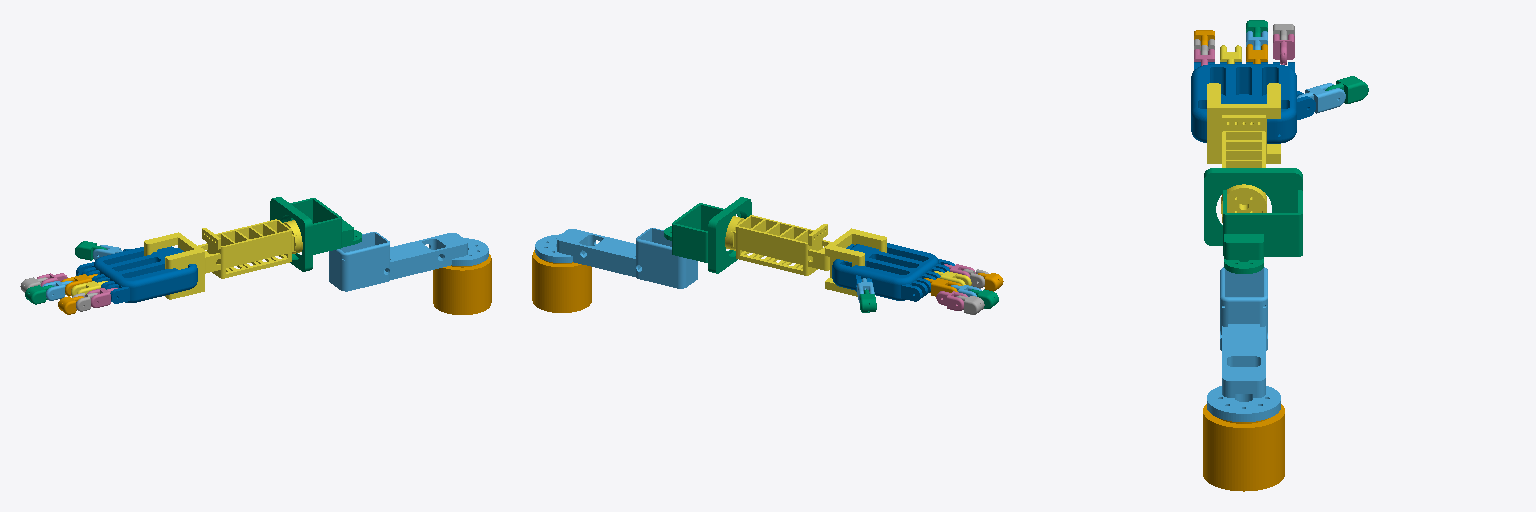
The robot description file, URDF, robot "cocomi_arm_v5":
<?xml version="1.0"?>
<!-- COCOMI / ここちゃん arm v5 (auto-generated). PLA mass = ~50% printed estimate; servos/actuator added as boxes.
     STS3215 55 g x3, 6806 bearing 18 g, wrist idler pin ~5 g,
     5 tendon micro servos 11 g each (PLACEHOLDER) in forearm_distal, AK45-10 placeholder 260 g. Units m/kg/rad.
     v5: wrist U-yoke — pivot on forearm centerline, axis Y (flexion/extension toward palm/back). Palm faces -Z (medial/inward at roll=0).
     Each finger has its own actuated joint <name>_curl; distal segments use <mimic>.
     Positive finger curl = toward the palm (axis 0 -1 0). Positive wrist = flexion toward palm (-Z); axis 0 -1 0 matches viewer wr.rotation.y=-J. -->
<robot name="cocomi_arm_v5">
 <link name="shoulder_base">
  <inertial><origin xyz="3.7728e-10 0.00039949 -0.023343"/><mass value="0.27900"/>
   <inertia ixx="1.1966e-04" ixy="-8.6654e-13" ixz="-8.3695e-13" iyy="1.1667e-04" iyz="2.3620e-06" izz="1.3768e-04"/></inertial>
  <visual><origin xyz="0 0 0" rpy="0 0 0"/><geometry><mesh filename="shoulder_cup.stl" scale="0.001 0.001 0.001"/></geometry></visual>
  <visual><origin xyz="0 0 0" rpy="0 0 0"/><geometry><mesh filename="actuator_AK45-10_placeholder.stl" scale="0.001 0.001 0.001"/></geometry></visual>
 </link>
 <link name="upper_arm">
  <inertial><origin xyz="-0.088002 -5.6798e-12 0.019498"/><mass value="0.09141"/>
   <inertia ixx="1.7332e-05" ixy="3.6248e-14" ixz="1.6594e-05" iyy="1.4181e-04" iyz="5.4687e-15" izz="1.3773e-04"/></inertial>
  <visual><origin xyz="0 0 0" rpy="0 0 0"/><geometry><mesh filename="upper_arm.stl" scale="0.001 0.001 0.001"/></geometry></visual>
  <collision><geometry><mesh filename="upper_arm.stl" scale="0.001 0.001 0.001"/></geometry></collision>
 </link>
 <link name="forearm">
  <inertial><origin xyz="-0.038925 0.0091292 0.014781"/><mass value="0.09619"/>
   <inertia ixx="2.6797e-05" ixy="-2.4713e-06" ixz="1.4432e-06" iyy="2.9391e-05" iyz="-1.9267e-07" izz="4.2018e-05"/></inertial>
  <visual><origin xyz="0 0 0" rpy="0 0 0"/><geometry><mesh filename="forearm_proximal.stl" scale="0.001 0.001 0.001"/></geometry></visual>
  <collision><geometry><mesh filename="forearm_proximal.stl" scale="0.001 0.001 0.001"/></geometry></collision>
 </link>
 <link name="forearm_distal">
  <inertial><origin xyz="-0.080967 0.010276 0.00066995"/><mass value="0.15672"/>
   <inertia ixx="7.1699e-05" ixy="4.7971e-05" ixz="1.3633e-06" iyy="2.5213e-04" iyz="1.0789e-06" izz="2.9733e-04"/></inertial>
  <visual><origin xyz="0 0 0" rpy="0 0 0"/><geometry><mesh filename="forearm_distal.stl" scale="0.001 0.001 0.001"/></geometry></visual>
  <collision><geometry><mesh filename="forearm_distal.stl" scale="0.001 0.001 0.001"/></geometry></collision>
 </link>
 <link name="hand">
  <inertial><origin xyz="-0.031513 0.00040913 -0.0003837"/><mass value="0.05622"/>
   <inertia ixx="2.5270e-05" ixy="-7.0010e-08" ixz="-1.5484e-07" iyy="4.3031e-05" iyz="-1.5521e-08" izz="6.3894e-05"/></inertial>
  <visual><origin xyz="0 0 0" rpy="0 0 0"/><geometry><mesh filename="palm.stl" scale="0.001 0.001 0.001"/></geometry></visual>
  <collision><geometry><mesh filename="palm.stl" scale="0.001 0.001 0.001"/></geometry></collision>
 </link>
 <joint name="shoulder_pitch" type="revolute"><parent link="shoulder_base"/><child link="upper_arm"/>
  <origin xyz="0 0 0"/><axis xyz="0 0 1"/><limit lower="-2.8" upper="0.8" effort="3" velocity="5"/></joint>
 <joint name="elbow" type="revolute"><parent link="upper_arm"/><child link="forearm"/>
  <origin xyz="-0.12 0 0.047"/><axis xyz="0 0 1"/><limit lower="-2.4" upper="0" effort="1.5" velocity="4"/></joint>
 <joint name="forearm_roll" type="revolute"><parent link="forearm"/><child link="forearm_distal"/>
  <origin xyz="-0.058 0 0.0156"/><axis xyz="1 0 0"/><limit lower="-1.5708" upper="1.5708" effort="1.5" velocity="4"/></joint>
 <joint name="wrist" type="revolute"><parent link="forearm_distal"/><child link="hand"/>
  <origin xyz="-0.124 0 0"/><axis xyz="0 -1 0"/><limit lower="-1.2" upper="1.2" effort="1.5" velocity="4"/></joint>
 <link name="finger_index_1">
  <inertial><origin xyz="-0.015087 1.6252e-12 -9.642e-12"/><mass value="0.00236"/>
   <inertia ixx="6.9504e-08" ixy="-3.7352e-17" ixz="3.4880e-16" iyy="2.1203e-07" iyz="9.0762e-19" izz="2.2178e-07"/></inertial>
  <visual><origin xyz="0 0 0" rpy="0 0 0"/><geometry><mesh filename="finger_index_1.stl" scale="0.001 0.001 0.001"/></geometry></visual>
 </link>
 <joint name="index_curl" type="revolute"><parent link="hand"/><child link="finger_index_1"/>
  <origin xyz="-0.079 0.0255 0" rpy="0 0 0.0000"/><axis xyz="0 -1 0"/><limit lower="0" upper="1.400" effort="0.2" velocity="3"/></joint>
 <link name="finger_index_2">
  <inertial><origin xyz="-0.011191 2.7564e-12 -1.3414e-11"/><mass value="0.00150"/>
   <inertia ixx="4.3751e-08" ixy="-2.9150e-17" ixz="2.4155e-16" iyy="9.9056e-08" iyz="8.0441e-19" izz="1.0655e-07"/></inertial>
  <visual><origin xyz="0 0 0" rpy="0 0 0"/><geometry><mesh filename="finger_index_2.stl" scale="0.001 0.001 0.001"/></geometry></visual>
 </link>
 <joint name="index_j2" type="revolute"><parent link="finger_index_1"/><child link="finger_index_2"/>
  <origin xyz="-0.026 0 0"/><axis xyz="0 -1 0"/><limit lower="0" upper="1.610" effort="0.2" velocity="3"/><mimic joint="index_curl" multiplier="1.15" offset="0"/></joint>
 <link name="finger_index_3">
  <inertial><origin xyz="-0.011052 2.3766e-11 -3.146e-10"/><mass value="0.00173"/>
   <inertia ixx="4.3328e-08" ixy="1.8975e-16" ixz="-1.6801e-15" iyy="9.2277e-08" iyz="-2.9984e-16" izz="9.3665e-08"/></inertial>
  <visual><origin xyz="0 0 0" rpy="0 0 0"/><geometry><mesh filename="finger_index_3.stl" scale="0.001 0.001 0.001"/></geometry></visual>
 </link>
 <joint name="index_j3" type="revolute"><parent link="finger_index_2"/><child link="finger_index_3"/>
  <origin xyz="-0.018 0 0"/><axis xyz="0 -1 0"/><limit lower="0" upper="1.260" effort="0.2" velocity="3"/><mimic joint="index_curl" multiplier="0.9" offset="0"/></joint>
 <link name="finger_middle_1">
  <inertial><origin xyz="-0.016071 1.4604e-12 -9.0925e-12"/><mass value="0.00258"/>
   <inertia ixx="7.5942e-08" ixy="-3.9146e-17" ixz="3.7856e-16" iyy="2.5100e-07" iyz="9.3342e-19" izz="2.6132e-07"/></inertial>
  <visual><origin xyz="0 0 0" rpy="0 0 0"/><geometry><mesh filename="finger_middle_1.stl" scale="0.001 0.001 0.001"/></geometry></visual>
 </link>
 <joint name="middle_curl" type="revolute"><parent link="hand"/><child link="finger_middle_1"/>
  <origin xyz="-0.079 0.0085 0" rpy="0 0 0.0000"/><axis xyz="0 -1 0"/><limit lower="0" upper="1.400" effort="0.2" velocity="3"/></joint>
 <link name="finger_middle_2">
  <inertial><origin xyz="-0.012155 2.3673e-12 -1.2117e-11"/><mass value="0.00172"/>
   <inertia ixx="5.0189e-08" ixy="-3.1339e-17" ixz="2.6654e-16" iyy="1.2172e-07" iyz="8.3021e-19" izz="1.2978e-07"/></inertial>
  <visual><origin xyz="0 0 0" rpy="0 0 0"/><geometry><mesh filename="finger_middle_2.stl" scale="0.001 0.001 0.001"/></geometry></visual>
 </link>
 <joint name="middle_j2" type="revolute"><parent link="finger_middle_1"/><child link="finger_middle_2"/>
  <origin xyz="-0.028 0 0"/><axis xyz="0 -1 0"/><limit lower="0" upper="1.610" effort="0.2" velocity="3"/><mimic joint="middle_curl" multiplier="1.15" offset="0"/></joint>
 <link name="finger_middle_3">
  <inertial><origin xyz="-0.011605 2.242e-11 -3.072e-10"/><mass value="0.00184"/>
   <inertia ixx="4.6547e-08" ixy="2.1159e-16" ixz="-1.9144e-15" iyy="1.0304e-07" iyz="-3.0897e-16" izz="1.0471e-07"/></inertial>
  <visual><origin xyz="0 0 0" rpy="0 0 0"/><geometry><mesh filename="finger_middle_3.stl" scale="0.001 0.001 0.001"/></geometry></visual>
 </link>
 <joint name="middle_j3" type="revolute"><parent link="finger_middle_2"/><child link="finger_middle_3"/>
  <origin xyz="-0.02 0 0"/><axis xyz="0 -1 0"/><limit lower="0" upper="1.260" effort="0.2" velocity="3"/><mimic joint="middle_curl" multiplier="0.9" offset="0"/></joint>
 <link name="finger_ring_1">
  <inertial><origin xyz="-0.015087 1.6252e-12 -9.642e-12"/><mass value="0.00236"/>
   <inertia ixx="6.9504e-08" ixy="-3.7352e-17" ixz="3.4880e-16" iyy="2.1203e-07" iyz="9.0762e-19" izz="2.2178e-07"/></inertial>
  <visual><origin xyz="0 0 0" rpy="0 0 0"/><geometry><mesh filename="finger_ring_1.stl" scale="0.001 0.001 0.001"/></geometry></visual>
 </link>
 <joint name="ring_curl" type="revolute"><parent link="hand"/><child link="finger_ring_1"/>
  <origin xyz="-0.079 -0.0085 0" rpy="0 0 0.0000"/><axis xyz="0 -1 0"/><limit lower="0" upper="1.400" effort="0.2" velocity="3"/></joint>
 <link name="finger_ring_2">
  <inertial><origin xyz="-0.011191 2.7564e-12 -1.3414e-11"/><mass value="0.00150"/>
   <inertia ixx="4.3751e-08" ixy="-2.9150e-17" ixz="2.4155e-16" iyy="9.9056e-08" iyz="8.0441e-19" izz="1.0655e-07"/></inertial>
  <visual><origin xyz="0 0 0" rpy="0 0 0"/><geometry><mesh filename="finger_ring_2.stl" scale="0.001 0.001 0.001"/></geometry></visual>
 </link>
 <joint name="ring_j2" type="revolute"><parent link="finger_ring_1"/><child link="finger_ring_2"/>
  <origin xyz="-0.026 0 0"/><axis xyz="0 -1 0"/><limit lower="0" upper="1.610" effort="0.2" velocity="3"/><mimic joint="ring_curl" multiplier="1.15" offset="0"/></joint>
 <link name="finger_ring_3">
  <inertial><origin xyz="-0.011052 2.3766e-11 -3.146e-10"/><mass value="0.00173"/>
   <inertia ixx="4.3328e-08" ixy="1.8975e-16" ixz="-1.6801e-15" iyy="9.2277e-08" iyz="-2.9984e-16" izz="9.3665e-08"/></inertial>
  <visual><origin xyz="0 0 0" rpy="0 0 0"/><geometry><mesh filename="finger_ring_3.stl" scale="0.001 0.001 0.001"/></geometry></visual>
 </link>
 <joint name="ring_j3" type="revolute"><parent link="finger_ring_2"/><child link="finger_ring_3"/>
  <origin xyz="-0.018 0 0"/><axis xyz="0 -1 0"/><limit lower="0" upper="1.260" effort="0.2" velocity="3"/><mimic joint="ring_curl" multiplier="0.9" offset="0"/></joint>
 <link name="finger_pinky_1">
  <inertial><origin xyz="-0.01264 2.2071e-12 -1.1583e-11"/><mass value="0.00182"/>
   <inertia ixx="5.3408e-08" ixy="-3.2402e-17" ixz="2.7951e-16" iyy="1.3432e-07" iyz="8.4311e-19" izz="1.4266e-07"/></inertial>
  <visual><origin xyz="0 0 0" rpy="0 0 0"/><geometry><mesh filename="finger_pinky_1.stl" scale="0.001 0.001 0.001"/></geometry></visual>
 </link>
 <joint name="pinky_curl" type="revolute"><parent link="hand"/><child link="finger_pinky_1"/>
  <origin xyz="-0.079 -0.0255 0" rpy="0 0 0.0000"/><axis xyz="0 -1 0"/><limit lower="0" upper="1.400" effort="0.2" velocity="3"/></joint>
 <link name="finger_pinky_2">
  <inertial><origin xyz="-0.009762 3.3991e-12 -1.6195e-11"/><mass value="0.00118"/>
   <inertia ixx="3.4219e-08" ixy="-2.5030e-17" ixz="2.0636e-16" iyy="7.0669e-08" iyz="7.6429e-19" izz="7.7237e-08"/></inertial>
  <visual><origin xyz="0 0 0" rpy="0 0 0"/><geometry><mesh filename="finger_pinky_2.stl" scale="0.001 0.001 0.001"/></geometry></visual>
 </link>
 <joint name="pinky_j2" type="revolute"><parent link="finger_pinky_1"/><child link="finger_pinky_2"/>
  <origin xyz="-0.021 0 0"/><axis xyz="0 -1 0"/><limit lower="0" upper="1.610" effort="0.2" velocity="3"/><mimic joint="pinky_curl" multiplier="1.15" offset="0"/></joint>
 <link name="finger_pinky_3">
  <inertial><origin xyz="-0.0099218 2.703e-11 -3.3254e-10"/><mass value="0.00152"/>
   <inertia ixx="3.6890e-08" ixy="1.4973e-16" ixz="-1.2567e-15" iyy="7.3247e-08" iyz="-2.8159e-16" izz="7.4070e-08"/></inertial>
  <visual><origin xyz="0 0 0" rpy="0 0 0"/><geometry><mesh filename="finger_pinky_3.stl" scale="0.001 0.001 0.001"/></geometry></visual>
 </link>
 <joint name="pinky_j3" type="revolute"><parent link="finger_pinky_2"/><child link="finger_pinky_3"/>
  <origin xyz="-0.015 0 0"/><axis xyz="0 -1 0"/><limit lower="0" upper="1.260" effort="0.2" velocity="3"/><mimic joint="pinky_curl" multiplier="0.9" offset="0"/></joint>
 <link name="finger_thumb_1">
  <inertial><origin xyz="-0.014105 1.823e-12 -1.0302e-11"/><mass value="0.00215"/>
   <inertia ixx="6.3065e-08" ixy="-3.5449e-17" ixz="3.2020e-16" iyy="1.7778e-07" iyz="8.8182e-19" izz="1.8696e-07"/></inertial>
  <visual><origin xyz="0 0 0" rpy="0 0 0"/><geometry><mesh filename="finger_thumb_1.stl" scale="0.001 0.001 0.001"/></geometry></visual>
 </link>
 <joint name="thumb_curl" type="revolute"><parent link="hand"/><child link="finger_thumb_1"/>
  <origin xyz="-0.030589 0.037277 0" rpy="0 0 -0.9599"/><axis xyz="0 -1 0"/><limit lower="0" upper="1.000" effort="0.2" velocity="3"/></joint>
 <link name="finger_thumb_2">
  <inertial><origin xyz="-0.012696 2.0152e-11 -2.9473e-10"/><mass value="0.00205"/>
   <inertia ixx="5.2985e-08" ixy="2.5869e-16" ixz="-2.4268e-15" iyy="1.2736e-07" iyz="-3.2722e-16" izz="1.2960e-07"/></inertial>
  <visual><origin xyz="0 0 0" rpy="0 0 0"/><geometry><mesh filename="finger_thumb_2.stl" scale="0.001 0.001 0.001"/></geometry></visual>
 </link>
 <joint name="thumb_j2" type="revolute"><parent link="finger_thumb_1"/><child link="finger_thumb_2"/>
  <origin xyz="-0.024 0 0"/><axis xyz="0 -1 0"/><limit lower="0" upper="1.150" effort="0.2" velocity="3"/><mimic joint="thumb_curl" multiplier="1.15" offset="0"/></joint>
</robot>

--- Render facts (derived) ---
3 views of the same robot in one strip: view 1: azimuth 30°, elevation 25°; view 2: azimuth 150°, elevation 25°; view 3: azimuth 270°, elevation 25° (orthographic).
Model cocomi_arm_v5 with 19 links and 18 joints (18 revolute), rooted at shoulder_base, posed all joints at 0.
Visible links, largest first — view 1: forearm_distal, upper_arm, hand, forearm, shoulder_base; view 2: forearm_distal, upper_arm, hand, forearm, shoulder_base; view 3: forearm, upper_arm, forearm_distal, shoulder_base, hand, finger_thumb_1, finger_thumb_2, finger_index_2.
Link boxes in pixels (<box>): forearm_distal: <box>144,219,302,299</box>; upper_arm: <box>329,232,488,291</box>; hand: <box>76,246,197,303</box>; forearm: <box>270,197,361,271</box>; shoulder_base: <box>433,254,491,314</box>; forearm_distal: <box>725,215,886,296</box>; upper_arm: <box>535,228,697,288</box>; hand: <box>832,243,954,301</box>; forearm: <box>664,197,751,273</box>; shoulder_base: <box>532,250,591,312</box>; forearm: <box>1204,168,1302,273</box>; upper_arm: <box>1207,267,1280,421</box>; forearm_distal: <box>1207,83,1280,222</box>; shoulder_base: <box>1203,404,1284,491</box>; hand: <box>1191,62,1315,143</box>; finger_thumb_1: <box>1297,83,1345,113</box>; finger_thumb_2: <box>1325,76,1368,103</box>; finger_index_2: <box>1273,34,1294,64</box>.
Bounding box of the posed robot: 0.478 × 0.1142 × 0.1336 m (x, y, z).
Meshes: 20 distinct files referenced, 16 mesh visuals loaded (16 binary STL); not drawn: 4 (reference not matched to a file when rendering).
